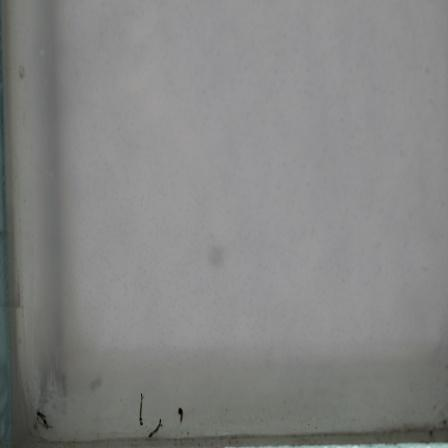Jentik-Nyamuk: (135, 388, 147, 425), (147, 419, 164, 439), (175, 404, 187, 426)
